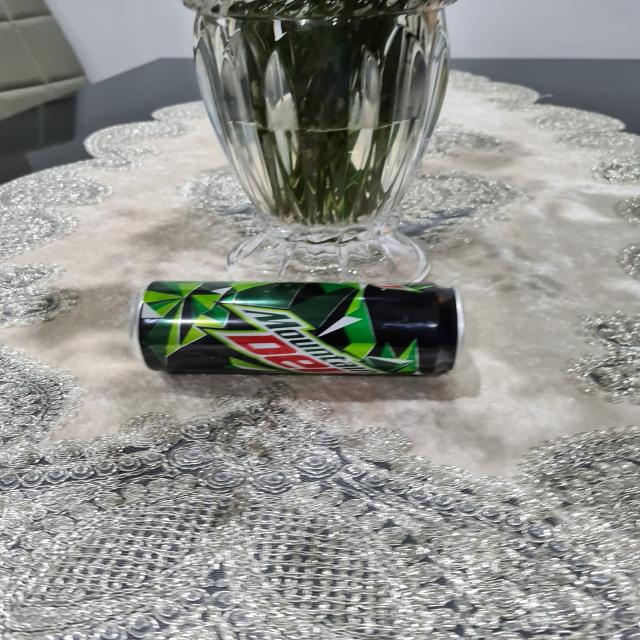non-organic waste: (127, 273, 475, 383)
